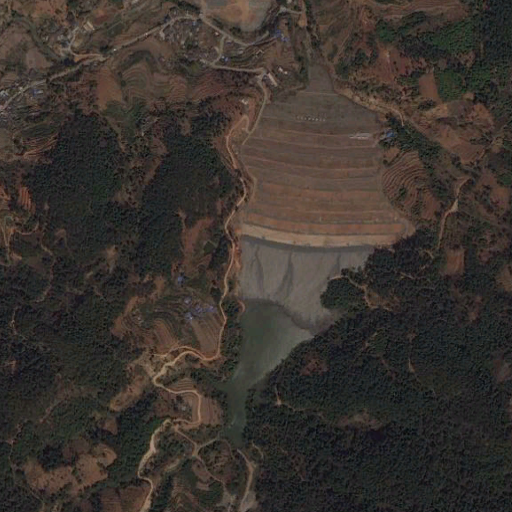tp: (206, 60, 415, 455)
